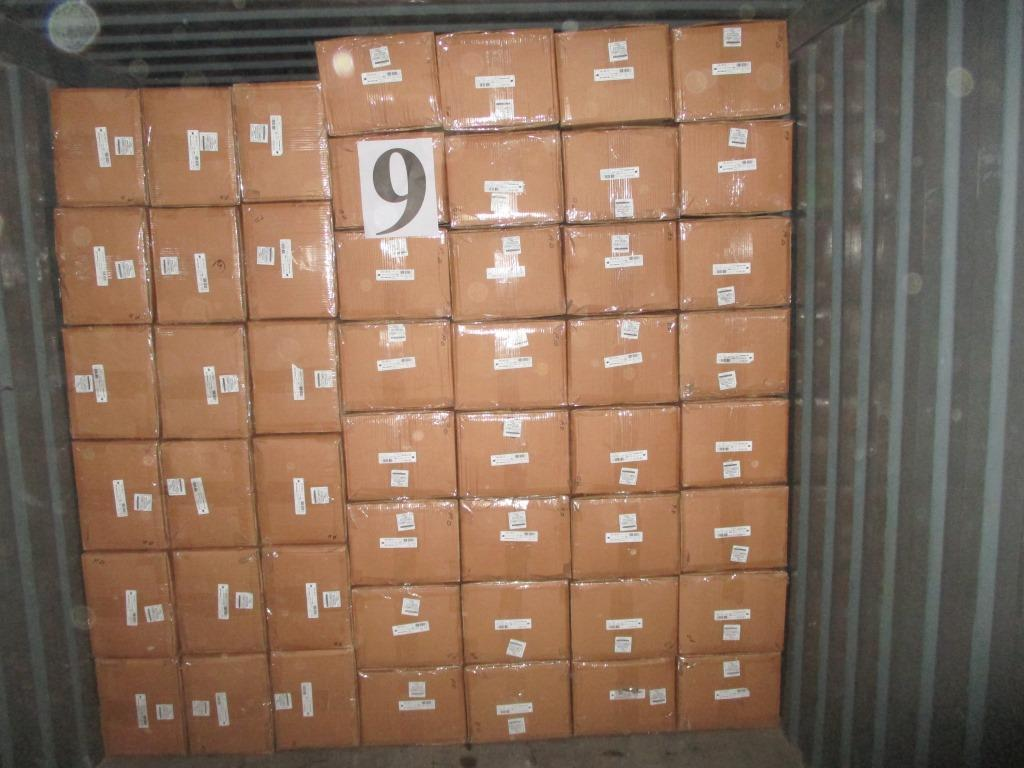carton: (314, 30, 441, 134), (435, 26, 559, 130), (555, 22, 674, 127), (671, 19, 791, 121), (140, 84, 240, 205), (232, 81, 331, 202), (444, 129, 564, 228), (327, 132, 448, 230), (53, 206, 153, 323), (562, 125, 680, 222), (241, 200, 337, 319), (52, 87, 147, 206), (60, 324, 160, 437), (150, 206, 247, 322), (153, 323, 251, 437), (678, 119, 793, 216), (449, 225, 565, 321), (563, 220, 678, 315), (247, 318, 342, 433), (157, 439, 257, 548), (71, 439, 169, 549), (677, 216, 791, 310), (335, 228, 451, 319), (452, 319, 568, 410), (253, 433, 348, 544), (339, 319, 454, 410), (566, 313, 679, 405), (80, 551, 178, 657), (342, 410, 456, 501), (678, 308, 790, 400), (170, 547, 268, 652), (455, 408, 571, 496), (569, 405, 681, 495), (348, 499, 460, 585), (352, 582, 464, 668), (459, 495, 572, 580), (678, 484, 788, 571), (261, 543, 351, 649), (681, 398, 788, 487), (570, 493, 680, 579), (181, 653, 274, 754), (569, 576, 678, 661), (460, 580, 569, 664), (678, 570, 787, 654), (270, 648, 360, 749), (94, 657, 187, 754), (464, 660, 572, 742), (358, 664, 465, 745), (571, 657, 676, 734), (676, 652, 781, 729)
